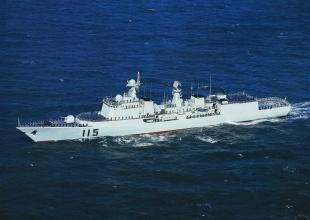warship: (14, 67, 291, 142)
